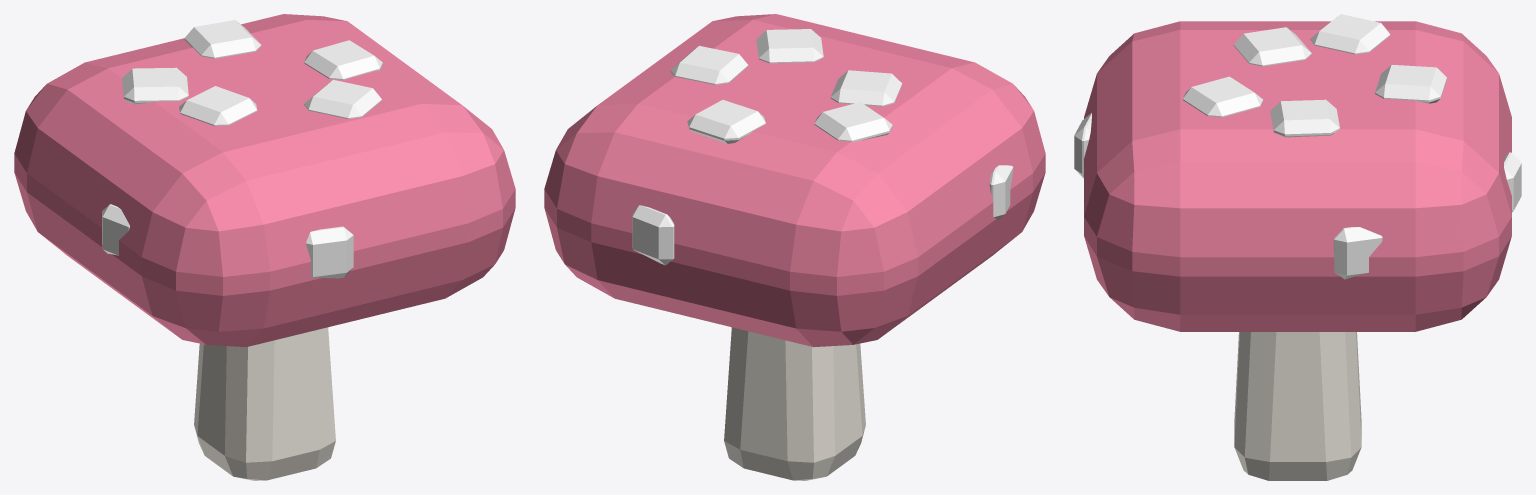
The model's file is mushroom.glb.
3 views of the same model, side by side, from view 1: azimuth 30°, elevation 25°; view 2: azimuth 150°, elevation 25°; view 3: azimuth 270°, elevation 25° (orthographic). The views are drawn at different scales.
Visible parts, largest first — view 1: mushroom; view 2: mushroom; view 3: mushroom.
Boxes of the visible parts, <box> form: mushroom: <box>14,14,515,480</box>; mushroom: <box>544,14,1045,480</box>; mushroom: <box>1074,14,1521,480</box>.
Size of the model in its own units: 1.86 by 1.85 by 1.88.
